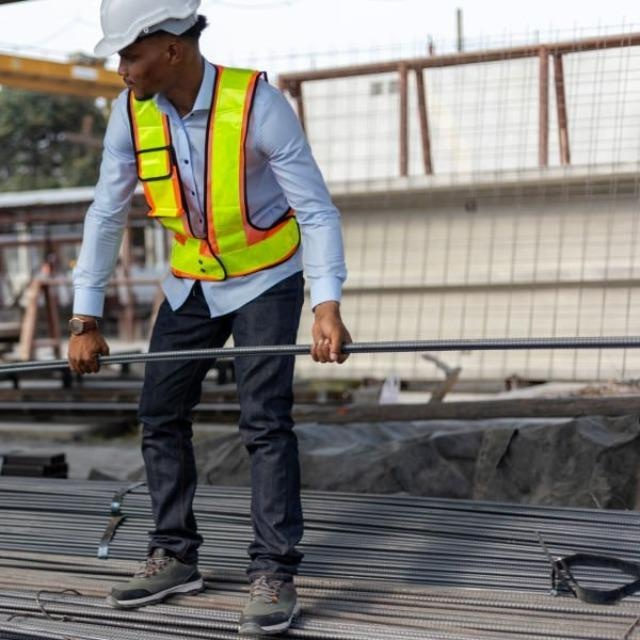Con_Chaleco: (134, 68, 296, 277)
